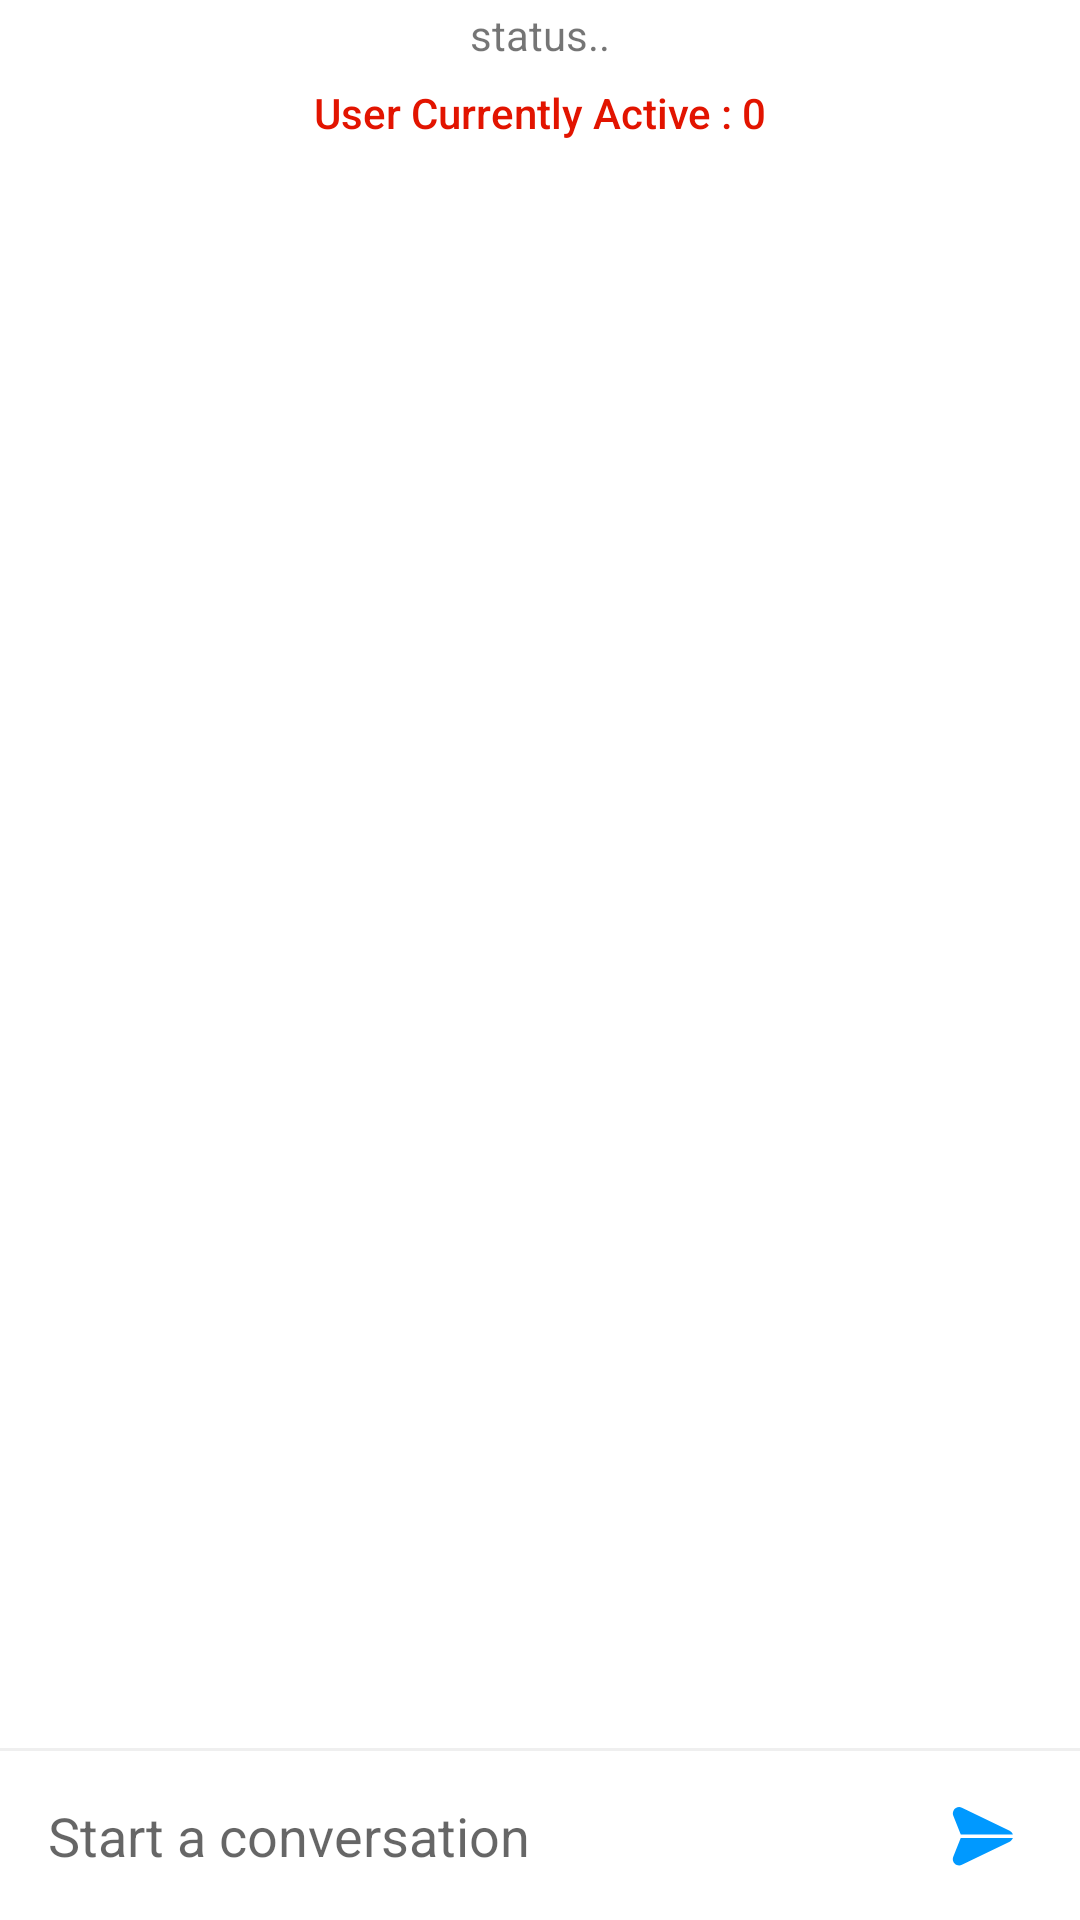

Point at icon controls on the screen. Image size 1080px x 1920px, points as (x=x, y=y).
send: (x=982, y=1836)
